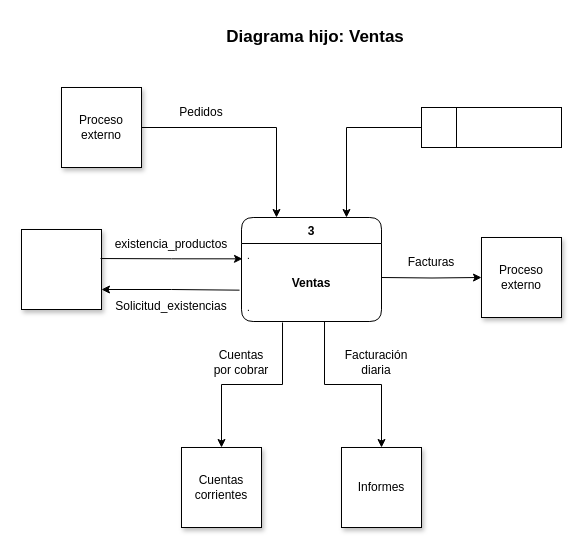
The diagram is 585 pixels wide and 552 high, and some of its shapes have lost their labels. Each missing label, with the centre of its shape:
"clientes" goes at [491,127].
"Inventarios" goes at [62,270].
